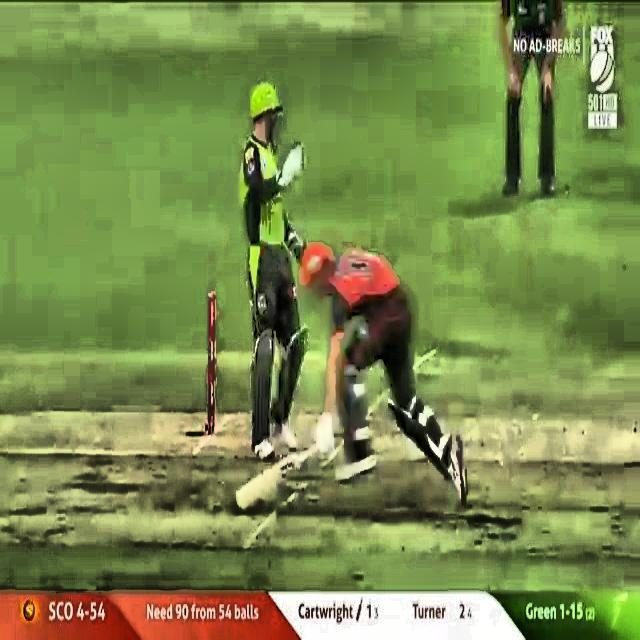Bat: (229, 429, 342, 516)
Undis_Wicket: (195, 282, 224, 434)
